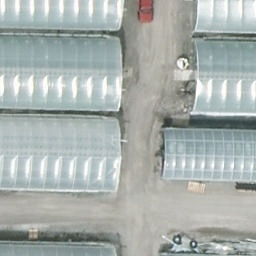car: (136, 0, 153, 22)
